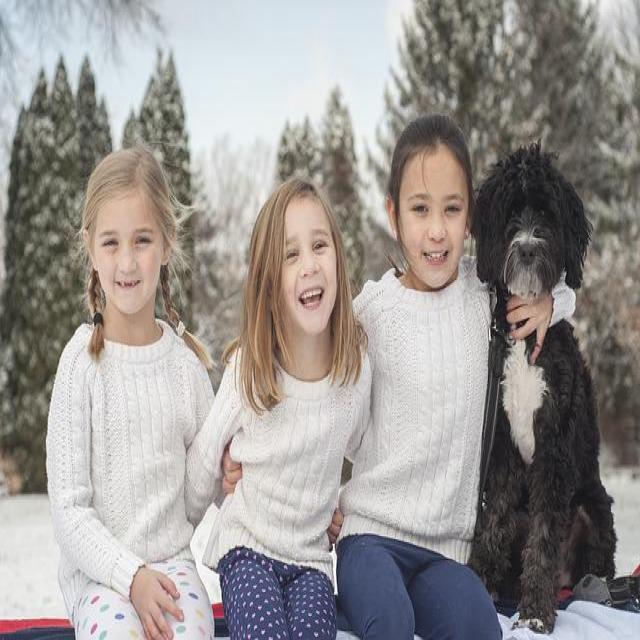child: (185, 173, 374, 640), (341, 111, 504, 640), (47, 144, 217, 640)
